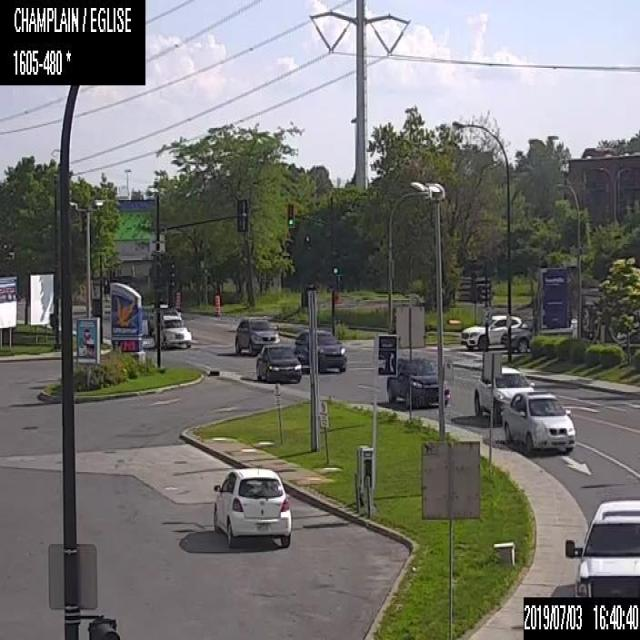construction: (175, 290, 181, 312), (214, 294, 220, 316)
vehicle: (562, 497, 639, 596), (212, 466, 292, 546), (502, 388, 576, 454), (473, 364, 535, 421), (386, 355, 450, 408), (459, 311, 527, 352), (292, 327, 346, 371), (255, 343, 302, 382), (234, 314, 280, 352), (500, 314, 538, 352), (152, 314, 189, 348), (147, 303, 181, 334), (508, 312, 509, 313)
